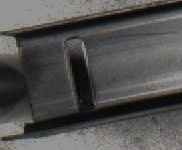40ngpress: (0, 12, 124, 140)
